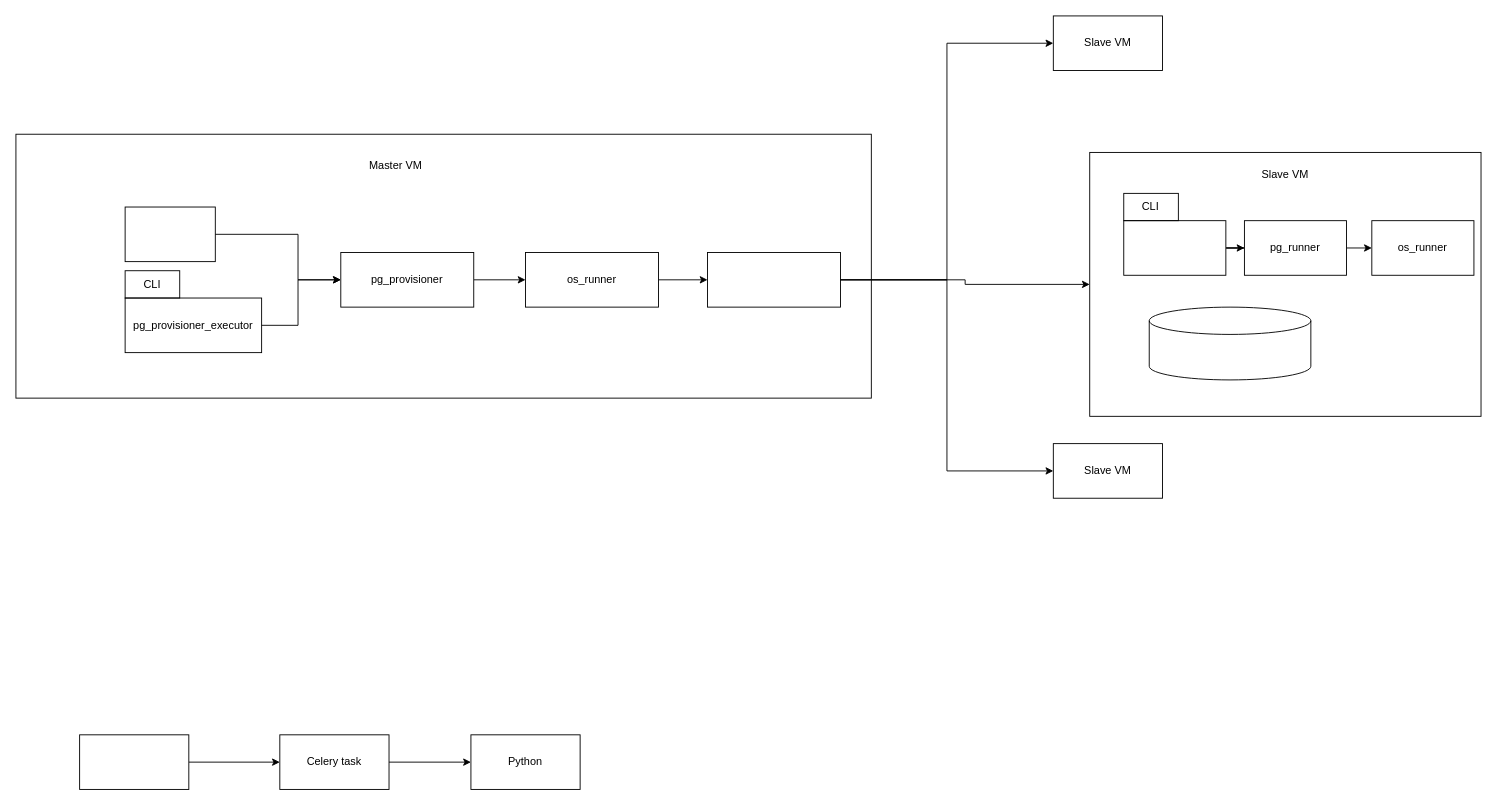
Image size: 1497x805. Some labels were removed from this diagram. Each missing label, with the box of its shape:
Ansible: (707, 252, 840, 307)
API POST req: (79, 734, 189, 789)
DJANGO API: (124, 206, 215, 262)
pg_runner_cli: (1123, 220, 1226, 275)
PostgreSQL cluster: (1148, 306, 1311, 380)
